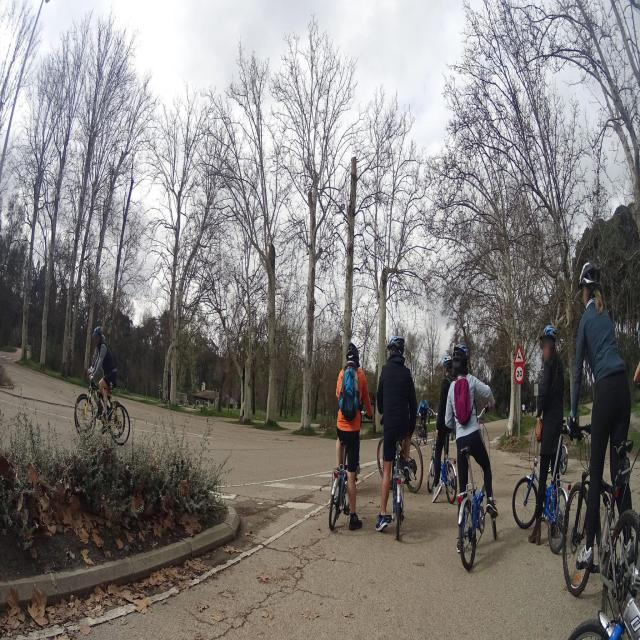bike: (562, 402, 640, 601), (74, 369, 131, 454)
